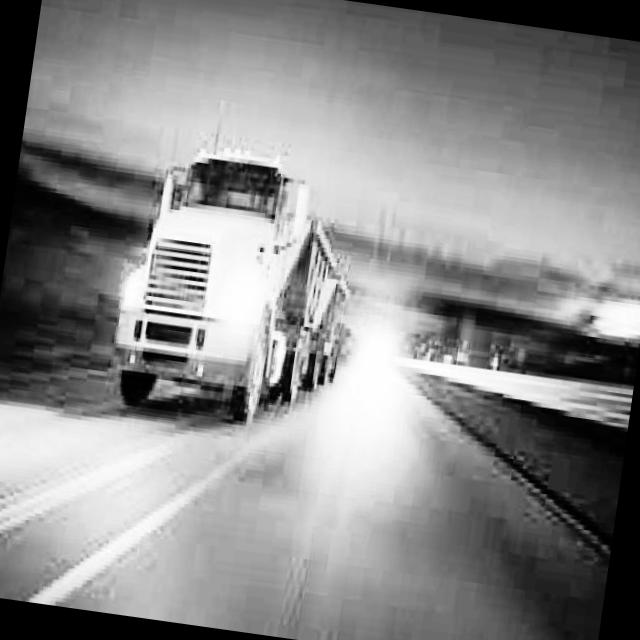Truck: (103, 119, 370, 434)
